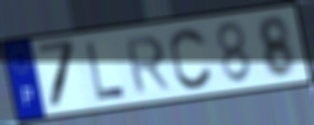7: (35, 38, 78, 112)
8: (257, 13, 298, 81), (215, 20, 252, 85)
C: (168, 25, 215, 91)
L: (84, 40, 127, 102)
R: (123, 33, 173, 96)
